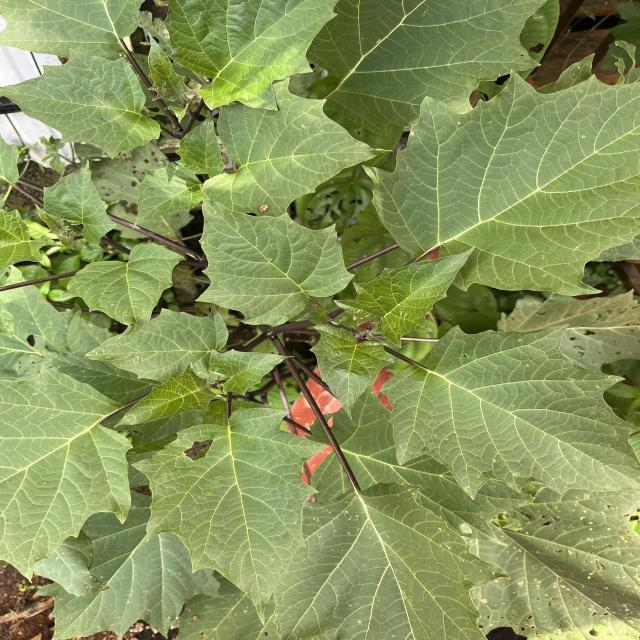Datura metal linn: (378, 322, 640, 502), (128, 404, 334, 629), (195, 75, 395, 219), (190, 182, 358, 330), (0, 47, 162, 161), (332, 242, 477, 350), (56, 240, 188, 338), (308, 324, 395, 421), (112, 360, 225, 430), (36, 158, 119, 245), (132, 162, 202, 230), (207, 348, 297, 397), (174, 108, 228, 178), (146, 31, 199, 102)
